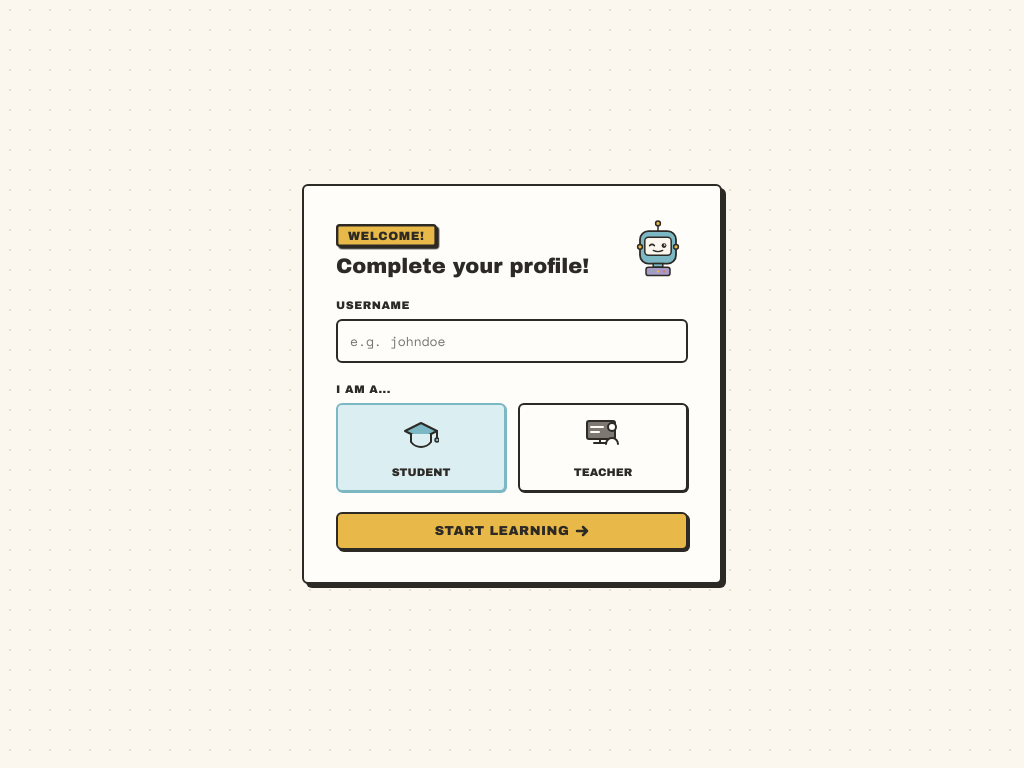
Test case: RegisterPage › shows an error when username contains invalid characters
Expected: the text "Complete your profile!" is shown, x1=336 y1=254 x2=589 y2=279
Step 1. Type "bad name!" into the field with placeholder "e.g. johndoe" → (512, 341), box x1=336 y1=319 x2=688 y2=363
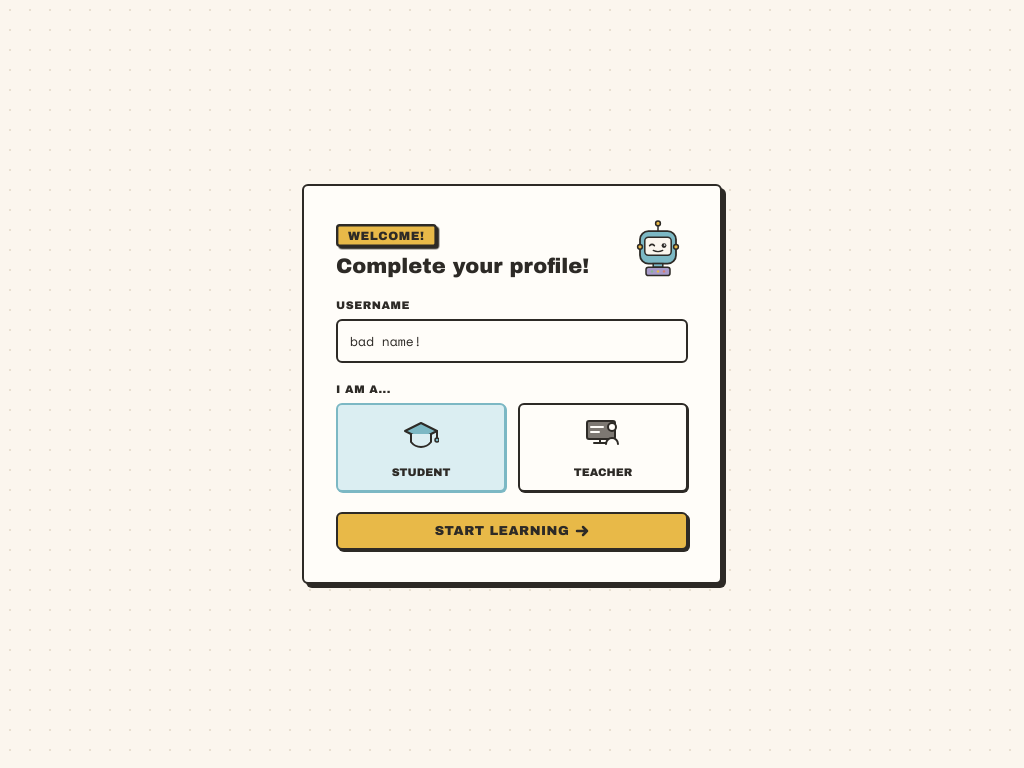
Step 2. Click the button "Start Learning" → (512, 531), box x1=336 y1=512 x2=688 y2=550
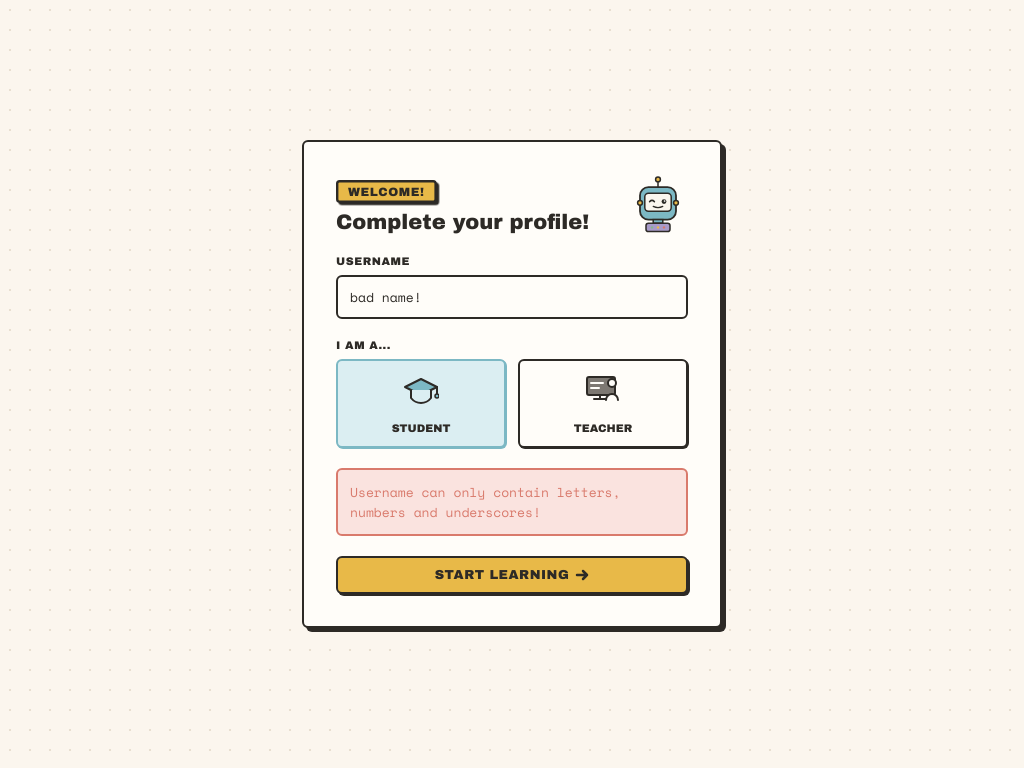
Result: the text "Username can only contain letters, numbers and underscores!" is shown at x1=336 y1=468 x2=688 y2=536
